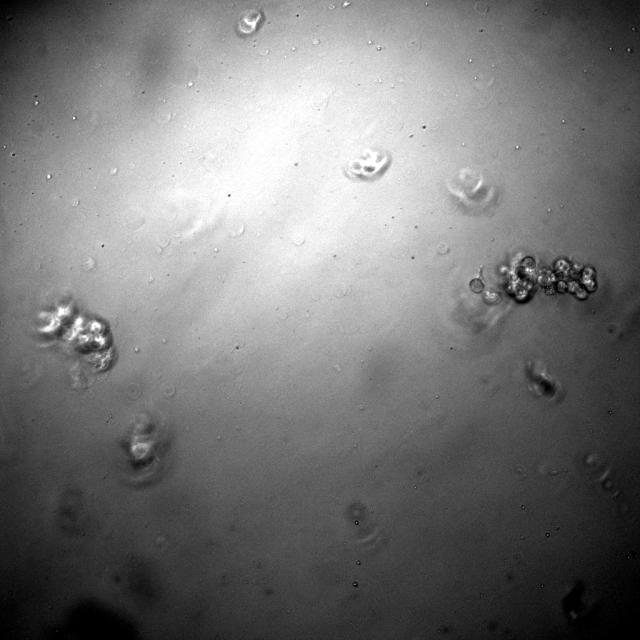organoid: (36, 297, 114, 370), (498, 253, 597, 302), (119, 413, 171, 485), (344, 148, 391, 181), (524, 361, 561, 399), (469, 267, 499, 304), (235, 8, 265, 38)
